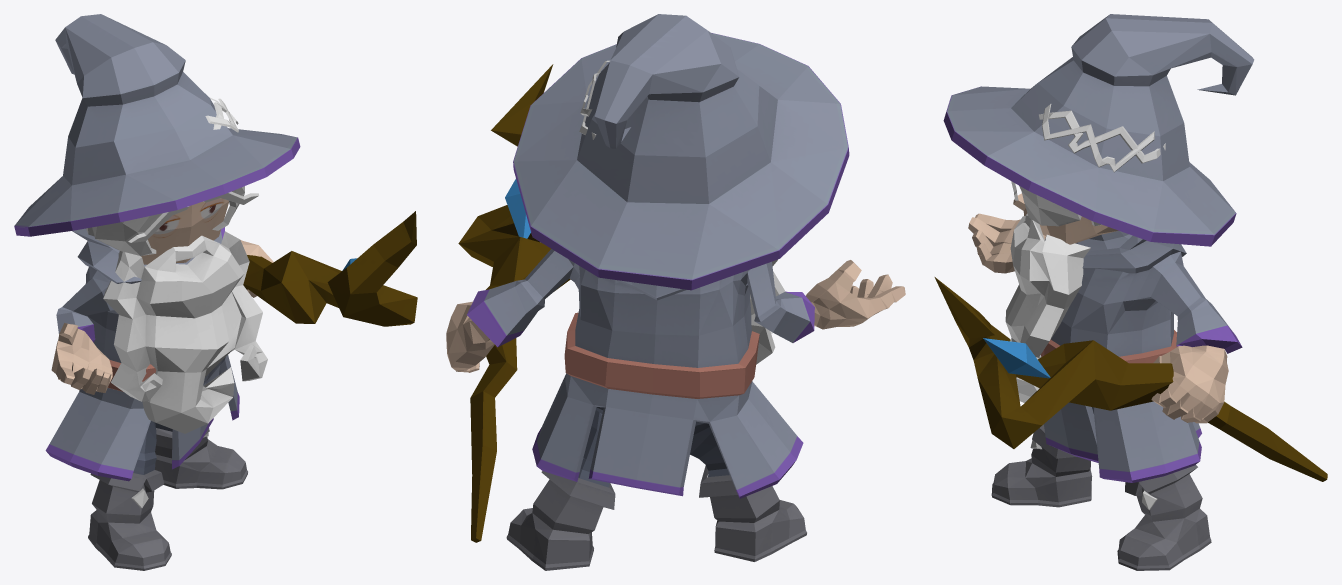
File: SK_Lowpoly_46.gltf
3 views of the same model, side by side, from view 1: azimuth 30°, elevation 25°; view 2: azimuth 150°, elevation 25°; view 3: azimuth 270°, elevation 25° (orthographic). The views are drawn at different scales.
Visible parts, largest first — view 1: SK_Lowpoly_Male_046_pose_98_StaticMeshComponent0; view 2: SK_Lowpoly_Male_046_pose_98_StaticMeshComponent0; view 3: SK_Lowpoly_Male_046_pose_98_StaticMeshComponent0.
Boxes of the visible parts, x1,y1,x2,y2 form: SK_Lowpoly_Male_046_pose_98_StaticMeshComponent0: (14, 14, 417, 570); SK_Lowpoly_Male_046_pose_98_StaticMeshComponent0: (446, 14, 905, 570); SK_Lowpoly_Male_046_pose_98_StaticMeshComponent0: (934, 14, 1327, 570).
Bounding box in the file's own units: 1.24 × 1.54 × 1.12.
1 material, 1 textured.
